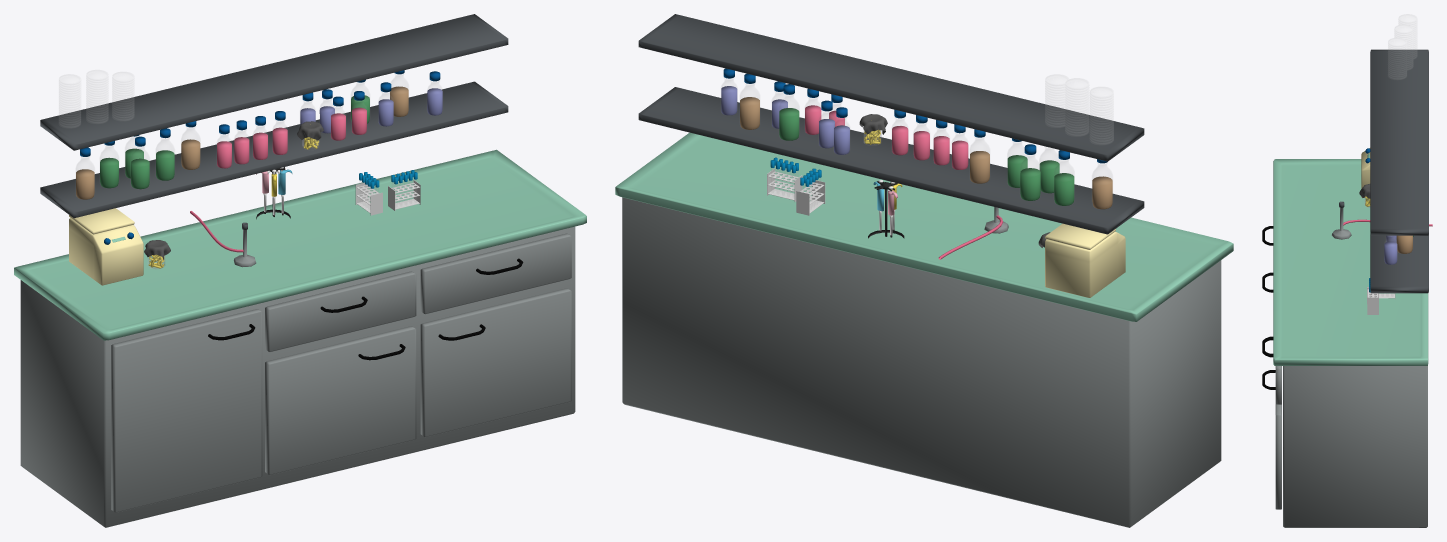
3 renders of one model, left to right at view 1: azimuth 30°, elevation 25°; view 2: azimuth 150°, elevation 25°; view 3: azimuth 270°, elevation 25°, orthographic. The views are drawn at different scales.
Parts seen in each view (by area): view 1: Torus.000, Torus.004, Torus.002, Cube, Circle.011, Circle.003, Torus.003, Circle.012, Icosphere.002, inhalt.002, inhalt.005, inhalt (+5 smaller); view 2: Torus.000, Torus.004, Torus.002, Cube, Circle.011, Circle.003, Circle.012, inhalt.003, Icosphere.002, inhalt.006, inhalt.001, inhalt.007 (+7 smaller); view 3: Torus.000, Torus.004, Torus.002, Circle.012, Torus.003, Circle.003, Cube, inhalt_klein.001, inhalt.007, Circle.013, Plane.004, Circle.011.
Boxes of the visible parts, bbox=[...] form: Torus.000: bbox=[20, 226, 575, 527]; Torus.004: bbox=[14, 149, 586, 340]; Torus.002: bbox=[40, 14, 508, 218]; Cube: bbox=[69, 208, 143, 285]; Circle.011: bbox=[59, 75, 80, 127]; Circle.003: bbox=[86, 70, 107, 123]; Torus.003: bbox=[208, 258, 523, 360]; Circle.012: bbox=[112, 72, 133, 120]; Icosphere.002: bbox=[256, 167, 292, 219]; inhalt.002: bbox=[131, 136, 149, 189]; inhalt.005: bbox=[156, 128, 174, 180]; inhalt: bbox=[76, 147, 94, 199]; Torus.000: bbox=[622, 197, 1221, 527]; Torus.004: bbox=[615, 132, 1233, 321]; Torus.002: bbox=[638, 14, 1144, 234]; Cube: bbox=[1045, 223, 1125, 297]; Circle.011: bbox=[1090, 87, 1113, 144]; Circle.003: bbox=[1065, 79, 1088, 136]; Circle.012: bbox=[1045, 75, 1068, 127]; inhalt.003: bbox=[1020, 144, 1040, 200]; Icosphere.002: bbox=[868, 180, 904, 238]; inhalt.006: bbox=[779, 84, 799, 140]; inhalt.001: bbox=[1054, 150, 1074, 205]; inhalt.007: bbox=[740, 73, 759, 129]; Torus.000: bbox=[1275, 366, 1427, 527]; Torus.004: bbox=[1273, 159, 1428, 365]; Torus.002: bbox=[1370, 49, 1428, 293]; Circle.012: bbox=[1388, 38, 1406, 79]; Torus.003: bbox=[1262, 226, 1275, 389]; Circle.003: bbox=[1395, 25, 1412, 69]; Cube: bbox=[1361, 148, 1370, 197]; inhalt_klein.001: bbox=[1384, 236, 1397, 264]; inhalt.007: bbox=[1396, 235, 1412, 253]; Circle.013: bbox=[1331, 201, 1351, 239]; Plane.004: bbox=[1367, 287, 1378, 314]; Circle.011: bbox=[1399, 14, 1416, 58].
Size of the model in its own units: 2.62 by 2.01 by 0.9379.
